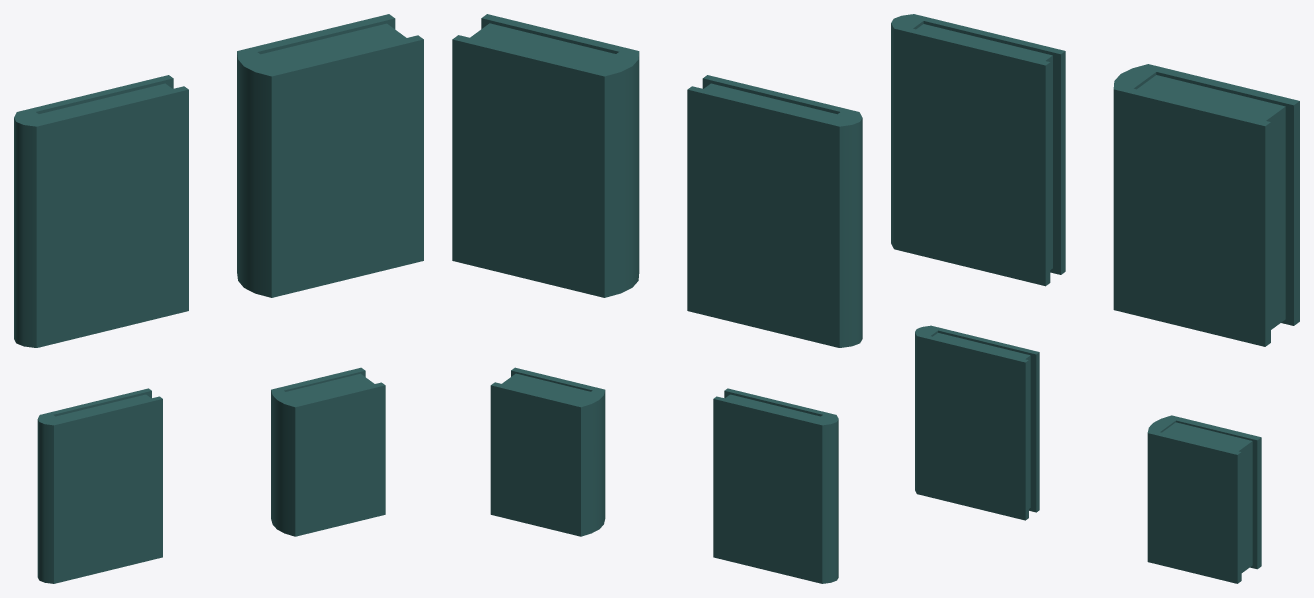
File: books low.fbx
3 renders of one model, left to right at view 1: azimuth 30°, elevation 25°; view 2: azimuth 150°, elevation 25°; view 3: azimuth 330°, elevation 25°, orthographic.
Parts seen in each view (by area): view 1: book_02_low, book_01_low, book_03_low, book_04_low; view 2: book_02_low, book_01_low, book_03_low, book_04_low; view 3: book_02_low, book_01_low, book_03_low, book_04_low.
Boxes of the visible parts, x1,y1,x2,y2 form: book_02_low: (237, 14, 423, 297); book_01_low: (14, 75, 188, 347); book_03_low: (37, 388, 162, 583); book_04_low: (271, 367, 385, 536); book_02_low: (452, 14, 639, 297); book_01_low: (687, 75, 862, 347); book_03_low: (713, 388, 838, 583); book_04_low: (490, 367, 605, 536); book_02_low: (1113, 64, 1299, 346); book_01_low: (891, 14, 1065, 286); book_03_low: (915, 325, 1039, 520); book_04_low: (1147, 415, 1261, 583).
Bounding box in the file's own units: 67.09 × 77.4 × 10.35.
